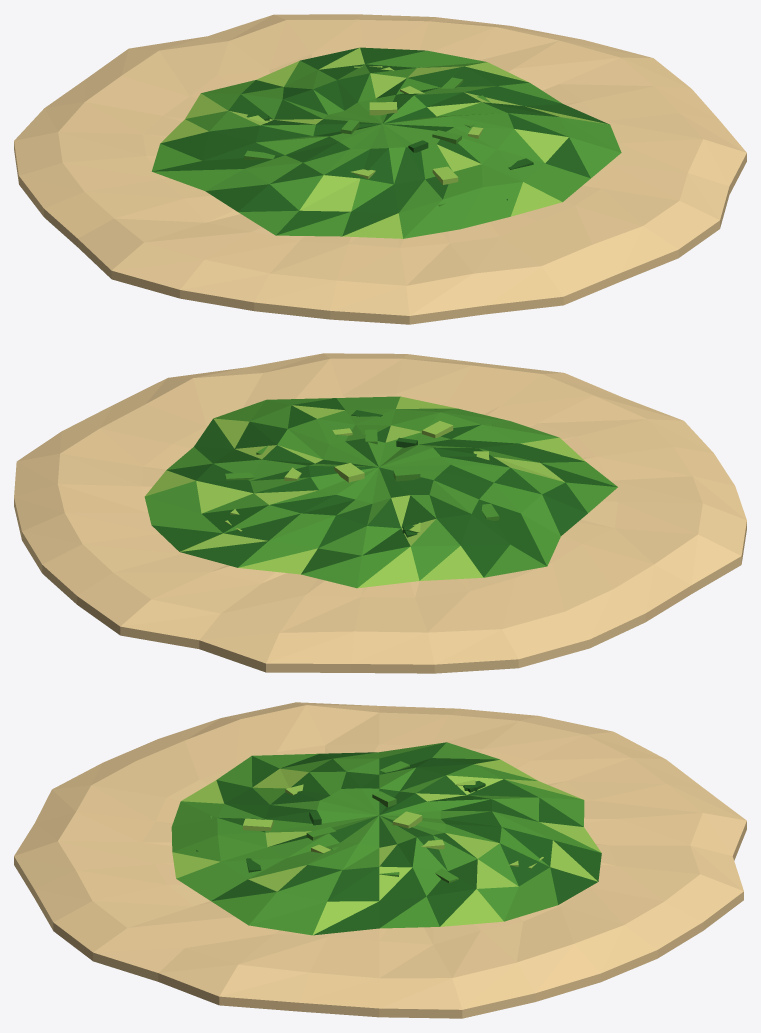
The model's file is OpenGreensQutab.obj.
The picture shows the model from 3 angles, top to bottom: view 1: azimuth 30°, elevation 25°; view 2: azimuth 150°, elevation 25°; view 3: azimuth 270°, elevation 25°; orthographic projection. The views are drawn at different scales.
Visible parts, largest first — view 1: OpenGreensQutab; view 2: OpenGreensQutab; view 3: OpenGreensQutab.
Part boxes in pixels (x1,y1,x2,y2): OpenGreensQutab: (14,14,746,324); OpenGreensQutab: (14,353,746,673); OpenGreensQutab: (14,702,746,1018).
Size of the model in its own units: 0.2991 by 0.0244 by 0.3012.
